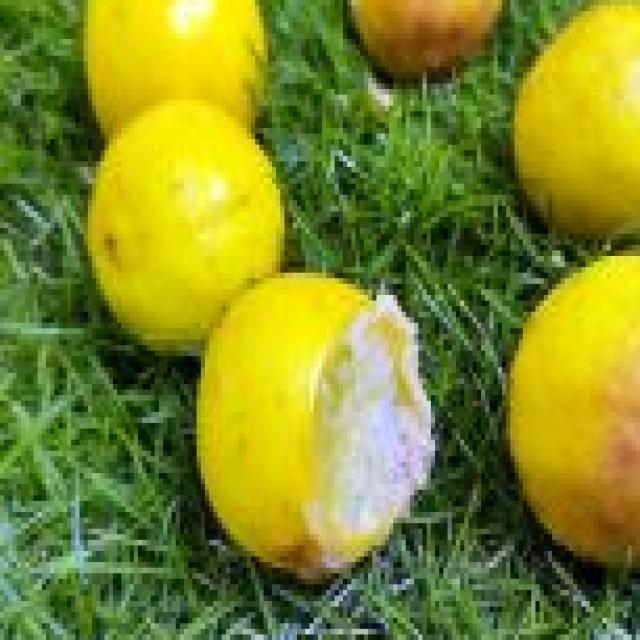Bad_Lime-0-1-day: (192, 273, 439, 590), (502, 250, 640, 579), (347, 0, 506, 83)
Good_Lime-10-21-days: (79, 0, 284, 362), (510, 0, 640, 245)
